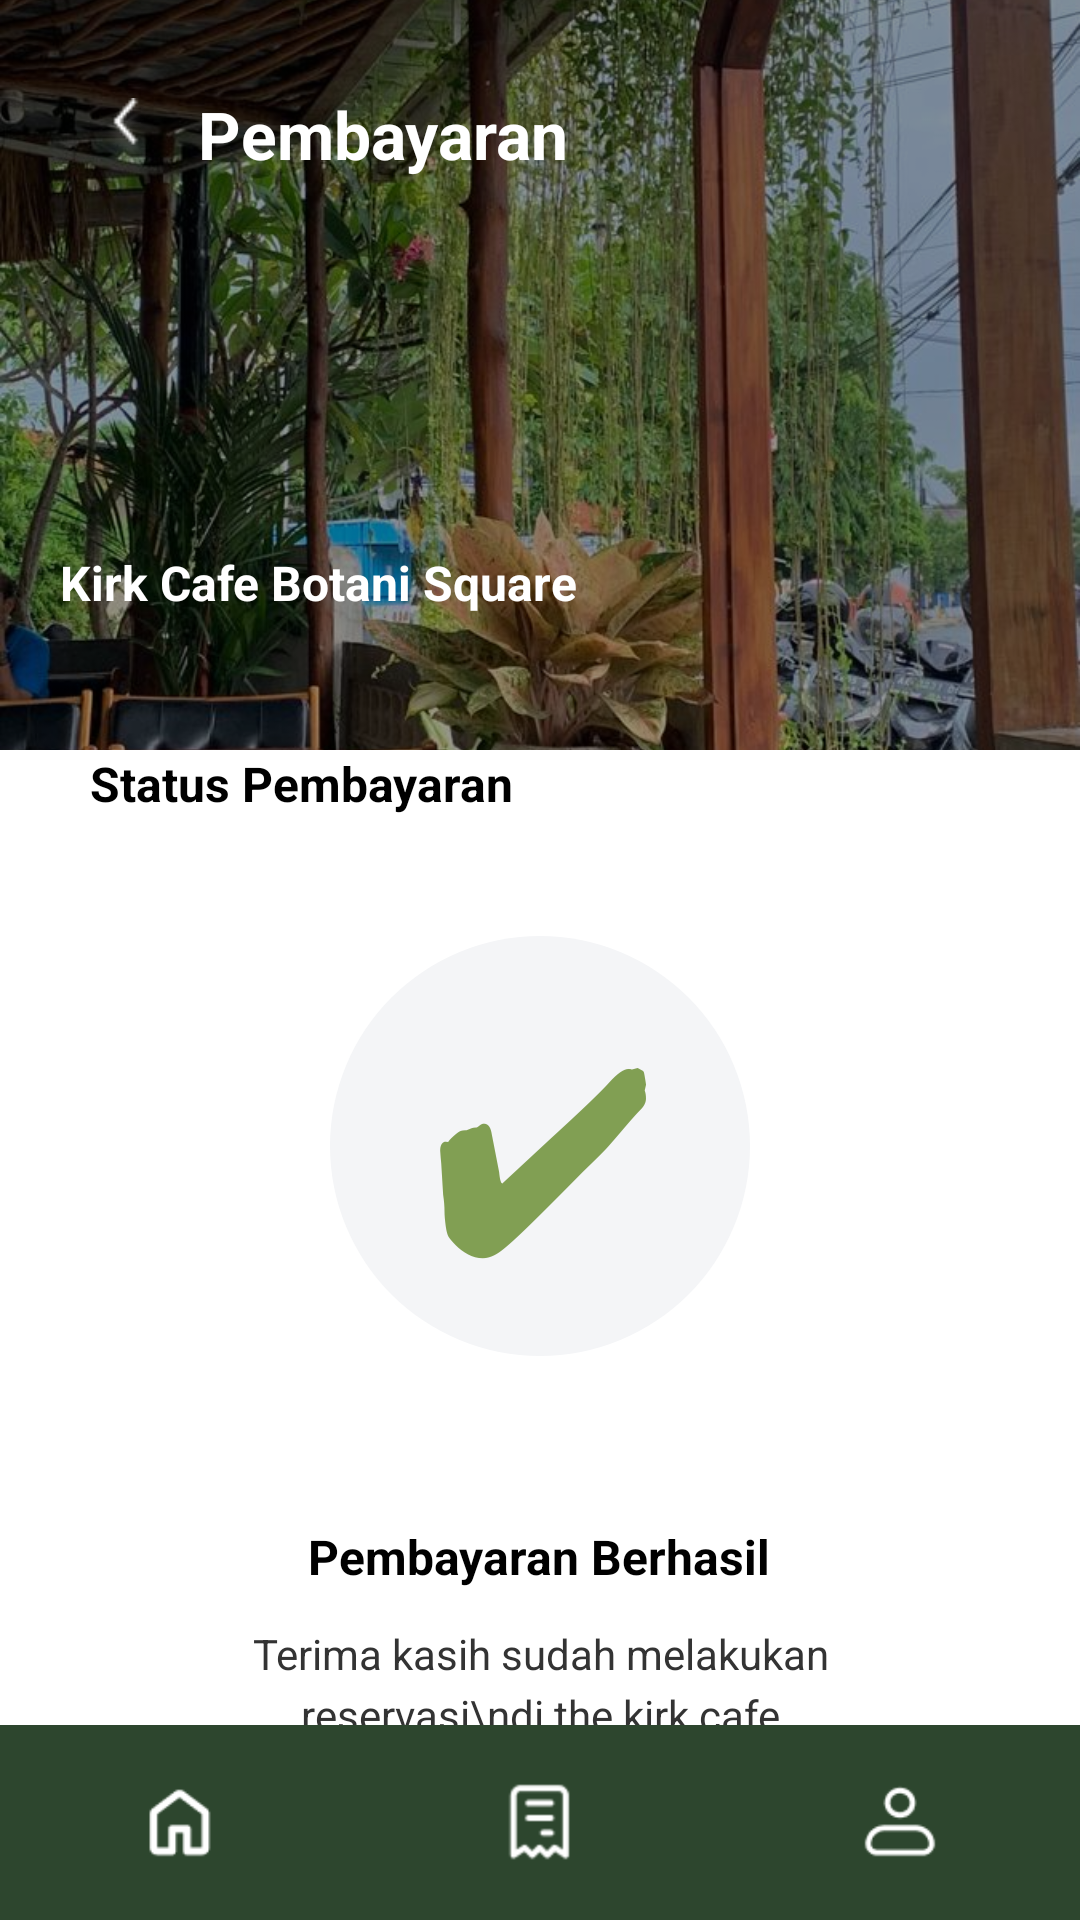

Icon click points for this 1080w x 1920h phone screenshot, format [x,y]:
home: [180,1822]
profile bar: [900,1822]
recipt: [539,1822]
sebelumnya: [126,134]
